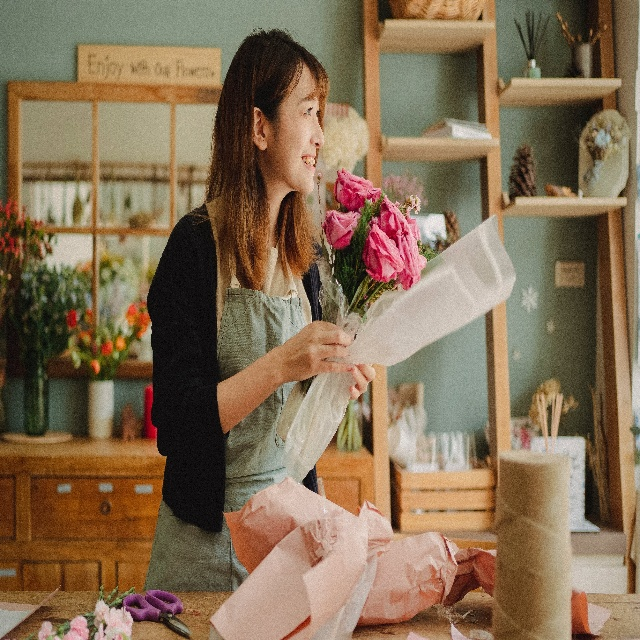Sin_guantes: (283, 322, 354, 378), (348, 358, 376, 400)
